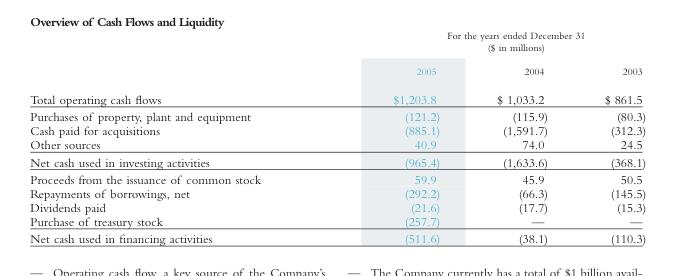table: (29, 28, 645, 245)
table column: (29, 28, 326, 245), (326, 28, 467, 245), (467, 28, 575, 245), (575, 28, 645, 245)
table column header: (29, 28, 645, 84)
table row: (29, 28, 645, 58), (29, 58, 645, 84), (29, 84, 645, 107), (29, 152, 645, 170), (29, 107, 645, 123), (29, 213, 645, 229), (29, 229, 645, 245), (29, 137, 645, 152), (29, 170, 645, 185), (29, 123, 645, 137), (29, 185, 645, 199), (29, 199, 645, 213)
table spanning cell: (326, 28, 645, 58)
